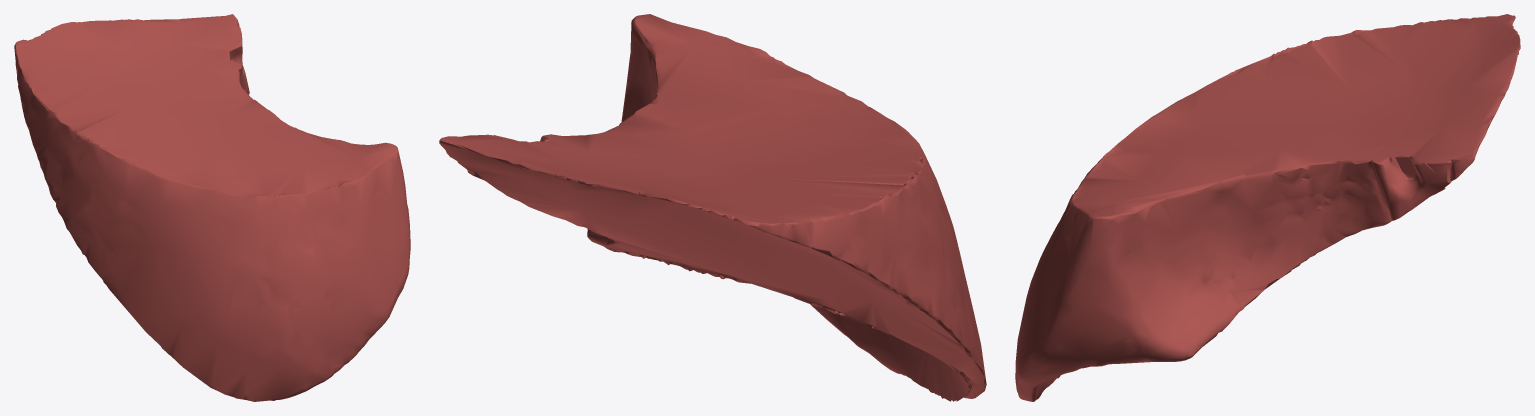
The model's file is lung3.fbx.
3 renders of one model, left to right at view 1: azimuth 30°, elevation 25°; view 2: azimuth 150°, elevation 25°; view 3: azimuth 270°, elevation 25°, orthographic. The views are drawn at different scales.
Parts seen in each view (by area): view 1: mesh; view 2: mesh; view 3: mesh.
Part boxes in pixels (x1,y1,x2,y2): mesh: (14, 14, 410, 401); mesh: (439, 14, 986, 401); mesh: (1015, 14, 1520, 401).
Bounding box in the file's own units: 116 × 105 × 146.
